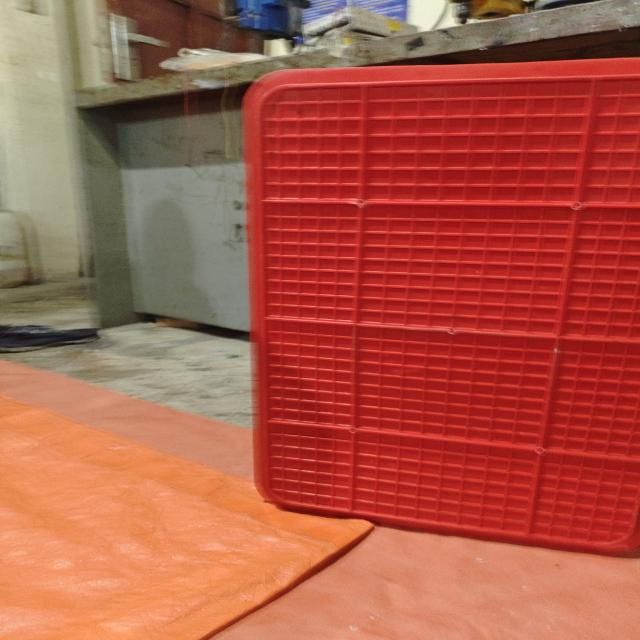red plastic box: (242, 57, 640, 555)
